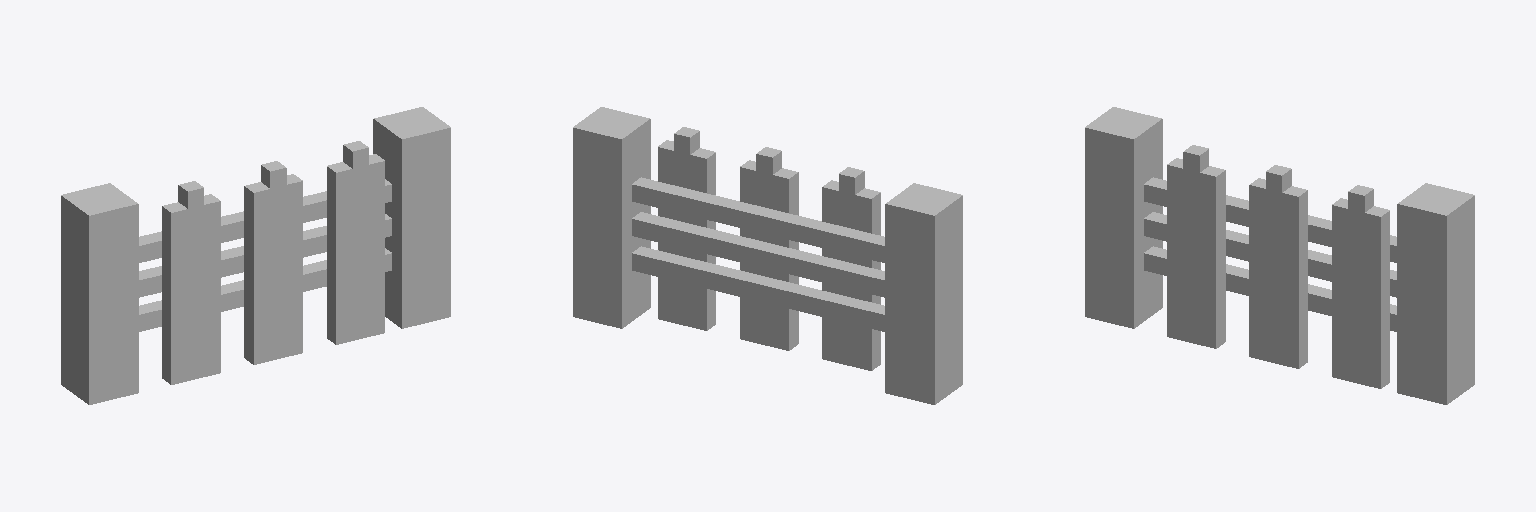
File: Fence.obj
3 views of the same model, side by side, from view 1: azimuth 30°, elevation 25°; view 2: azimuth 150°, elevation 25°; view 3: azimuth 330°, elevation 25° (orthographic).
Parts seen in each view (by area): view 1: Fence; view 2: Fence; view 3: Fence.
Boxes of the visible parts, x1,y1,x2,y2 form: Fence: [61, 107, 450, 404]; Fence: [573, 107, 962, 404]; Fence: [1085, 107, 1474, 404].
Size of the model in its own units: 22 by 11 by 3.